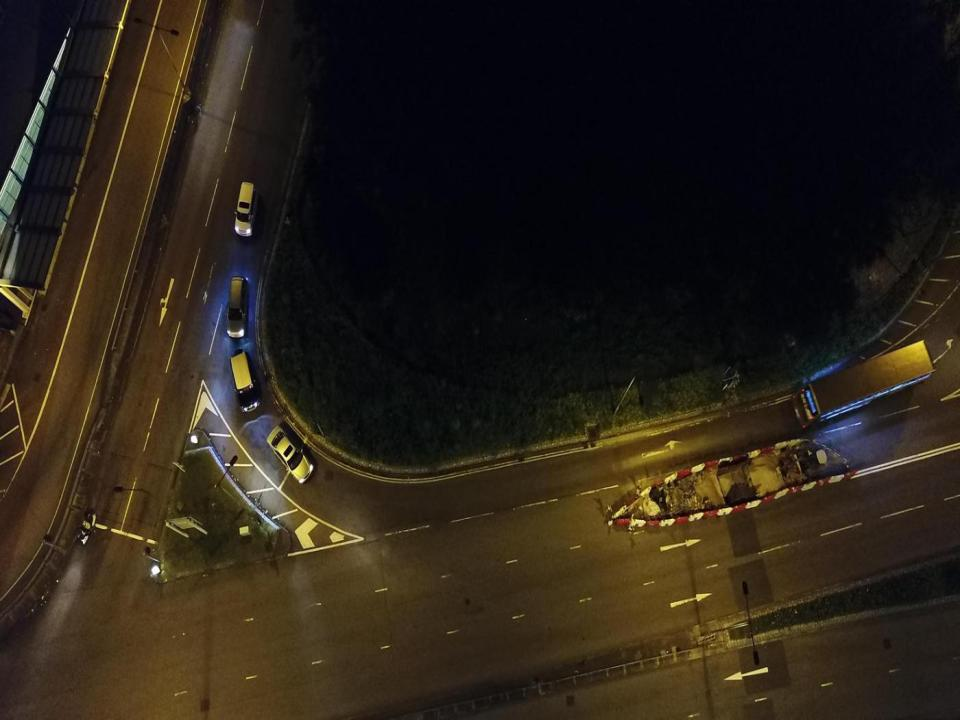bus: (791, 338, 935, 430)
car: (266, 424, 314, 484), (229, 348, 261, 413), (224, 276, 248, 338), (234, 181, 258, 237)
